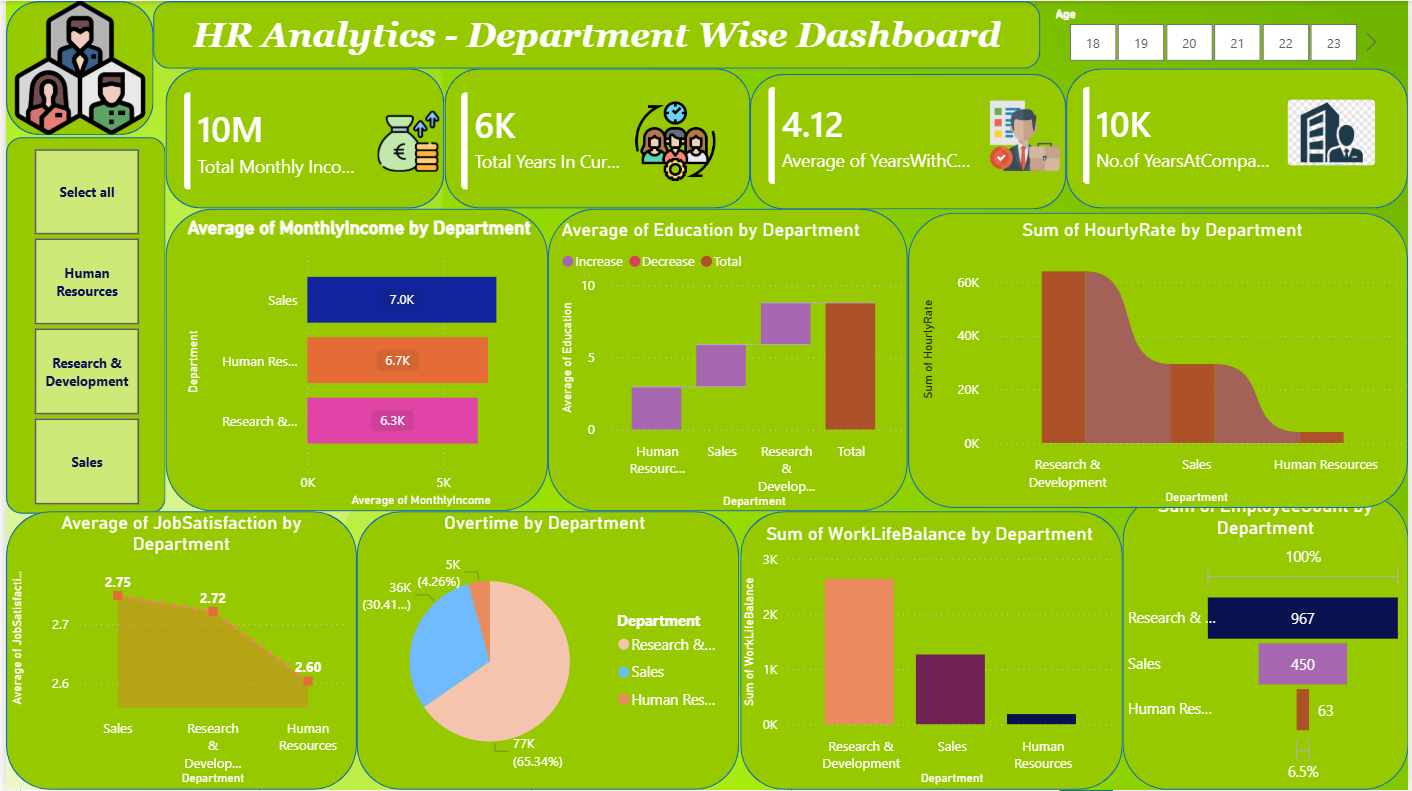

Layout of this report page (visuals, bound fields, positions):
{"tool":"powerbi","page":{"name":"Department wise dashboard","canvas":[1280,720],"ordinal":3},"visuals":[{"type":"shape","box":[1019.1,451.1,261.3,269.6],"z":0},{"type":"shape","box":[968.2,61.9,312.2,127.9],"z":1000},{"type":"shape","box":[0,0,134.8,122.4],"z":2000},{"type":"shape","box":[134.8,0,810,61.9],"z":3000},{"type":"image","box":[0,0,134.8,122.4],"z":4000},{"type":"shape","box":[0,123.8,145.8,343.8],"z":5000},{"type":"shape","box":[145.8,61.9,254.4,127.9],"z":6000},{"type":"shape","box":[400.2,61.9,279.2,127.9],"z":7000},{"type":"shape","box":[145.8,189.8,349.3,276.4],"z":8000},{"type":"shape","box":[679.4,66,288.8,123.8],"z":9000},{"type":"cardVisual","fields":{"Data":["Avg(HR_Analytics.YearsWithCurrManager)","Sum(HR_Analytics.YearsAtCompany)"]},"box":[679.4,61.9,601,123.8],"z":10000},{"type":"cardVisual","fields":{"Data":["Sum(HR_Analytics.MonthlyIncome)","Sum(HR_Analytics.YearsInCurrentRole)"]},"box":[145.8,66,533.6,123.8],"z":11000},{"type":"clusteredBarChart","fields":{"Category":["HR_Analytics.Department"],"Y":["Avg(HR_Analytics.MonthlyIncome)"]},"box":[160.9,196.7,334.2,269.6],"z":12000},{"type":"shape","box":[320.4,466.2,349.3,254.4],"z":13000},{"type":"shape","box":[0,466.2,320.4,254.4],"z":14000},{"type":"stackedAreaChart","fields":{"Category":["HR_Analytics.Department"],"Y":["Avg(HR_Analytics.JobSatisfaction)"]},"box":[0,466.2,320.4,254.4],"z":15000},{"type":"pieChart","title":"Overtime by Department","fields":{"Category":["HR_Analytics.Department"],"Y":["Sum(HR_Analytics.StandardHours)"]},"box":[320.4,466.2,343.8,254.4],"z":16000},{"type":"shape","box":[495.1,189.8,328.7,276.4],"z":17000},{"type":"shape","box":[669.8,466.2,349.3,254.4],"z":18000},{"type":"clusteredColumnChart","fields":{"Y":["Sum(HR_Analytics.WorkLifeBalance)"],"Category":["HR_Analytics.Department"]},"box":[668.4,475.8,350.7,244.8],"z":19000},{"type":"slicer","fields":{"Values":["HR_Analytics.Age"]},"box":[944.8,0,312.2,61.9],"z":20000},{"type":"slicer","fields":{"Values":["HR_Analytics.Department"]},"box":[0,127.9,145.8,338.3],"z":21000},{"type":"funnel","fields":{"Category":["HR_Analytics.Department"],"Y":["Sum(HR_Analytics.EmployeeCount)"]},"box":[1019.2,467.9,261.5,252.6],"z":22000},{"type":"waterfallChart","fields":{"Category":["HR_Analytics.Department"],"Y":["Avg(HR_Analytics.Education)"]},"box":[502,198,321.8,269.6],"z":22001},{"type":"shape","box":[823.8,193.9,456.6,269.6],"z":22002},{"type":"ribbonChart","fields":{"Category":["HR_Analytics.Department"],"Y":["Sum(HR_Analytics.HourlyRate)"]},"box":[830.7,198,449.7,265.4],"z":22003}]}

Visuals, with their boxes in screenshot pixels (x1, y1, x2, y2), scaled from the page's 1280x720 canvas onto the 1412x791 screenshot:
shape: pyautogui.locateOnScreen(1124, 496, 1411, 790)
shape: pyautogui.locateOnScreen(1068, 68, 1411, 209)
shape: pyautogui.locateOnScreen(0, 0, 149, 134)
shape: pyautogui.locateOnScreen(149, 0, 1042, 68)
image: pyautogui.locateOnScreen(0, 0, 149, 134)
shape: pyautogui.locateOnScreen(0, 136, 161, 514)
shape: pyautogui.locateOnScreen(161, 68, 441, 209)
shape: pyautogui.locateOnScreen(441, 68, 749, 209)
shape: pyautogui.locateOnScreen(161, 209, 546, 512)
shape: pyautogui.locateOnScreen(749, 73, 1068, 209)
cardVisual - Avg(HR_Analytics.YearsWithCurrManager) x Sum(HR_Analytics.YearsAtCompany): pyautogui.locateOnScreen(749, 68, 1411, 204)
cardVisual - Sum(HR_Analytics.MonthlyIncome) x Sum(HR_Analytics.YearsInCurrentRole): pyautogui.locateOnScreen(161, 73, 749, 209)
clusteredBarChart - HR_Analytics.Department x Avg(HR_Analytics.MonthlyIncome): pyautogui.locateOnScreen(177, 216, 546, 512)
shape: pyautogui.locateOnScreen(353, 512, 739, 790)
shape: pyautogui.locateOnScreen(0, 512, 353, 790)
stackedAreaChart - HR_Analytics.Department x Avg(HR_Analytics.JobSatisfaction): pyautogui.locateOnScreen(0, 512, 353, 790)
"Overtime by Department" pieChart: pyautogui.locateOnScreen(353, 512, 733, 790)
shape: pyautogui.locateOnScreen(546, 209, 909, 512)
shape: pyautogui.locateOnScreen(739, 512, 1124, 790)
clusteredColumnChart - Sum(HR_Analytics.WorkLifeBalance) x HR_Analytics.Department: pyautogui.locateOnScreen(737, 523, 1124, 790)
slicer - HR_Analytics.Age: pyautogui.locateOnScreen(1042, 0, 1387, 68)
slicer - HR_Analytics.Department: pyautogui.locateOnScreen(0, 141, 161, 512)
funnel - HR_Analytics.Department x Sum(HR_Analytics.EmployeeCount): pyautogui.locateOnScreen(1124, 514, 1411, 790)
waterfallChart - HR_Analytics.Department x Avg(HR_Analytics.Education): pyautogui.locateOnScreen(554, 218, 909, 514)
shape: pyautogui.locateOnScreen(909, 213, 1411, 509)
ribbonChart - HR_Analytics.Department x Sum(HR_Analytics.HourlyRate): pyautogui.locateOnScreen(916, 218, 1411, 509)
